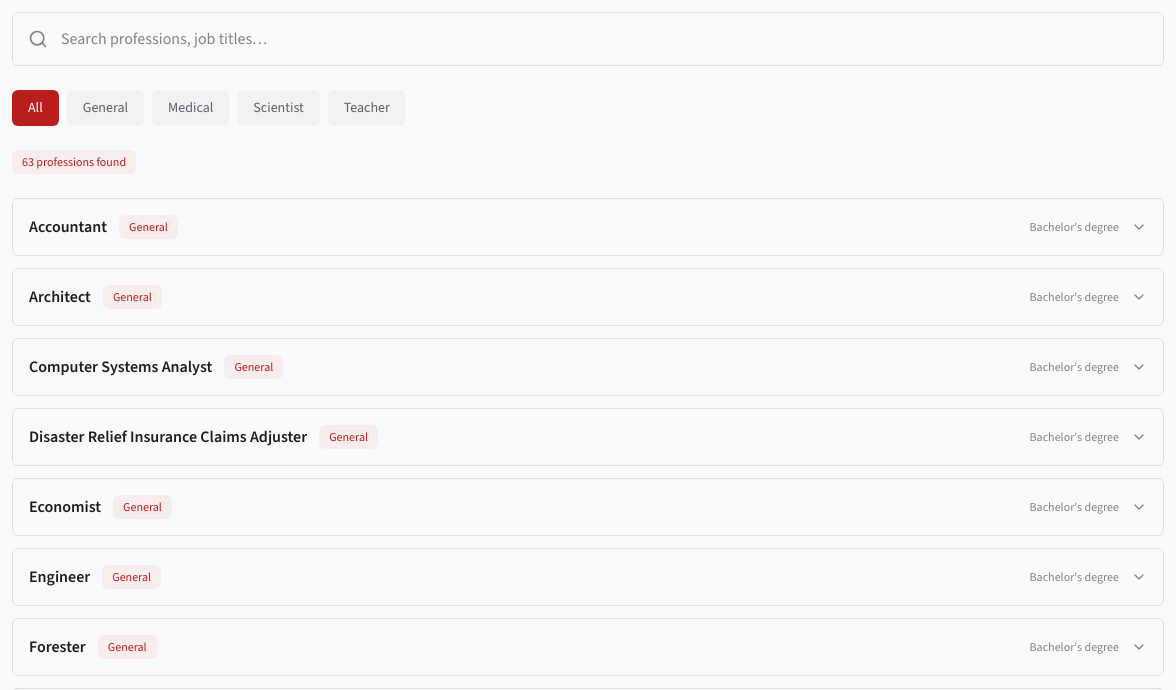
Test: ProfessionFinder › expands accordion on click
Click the button "Accountant General Bachelor's degree": {"x": 148, "y": 227} top-left (13, 199), bottom-right (1163, 255)
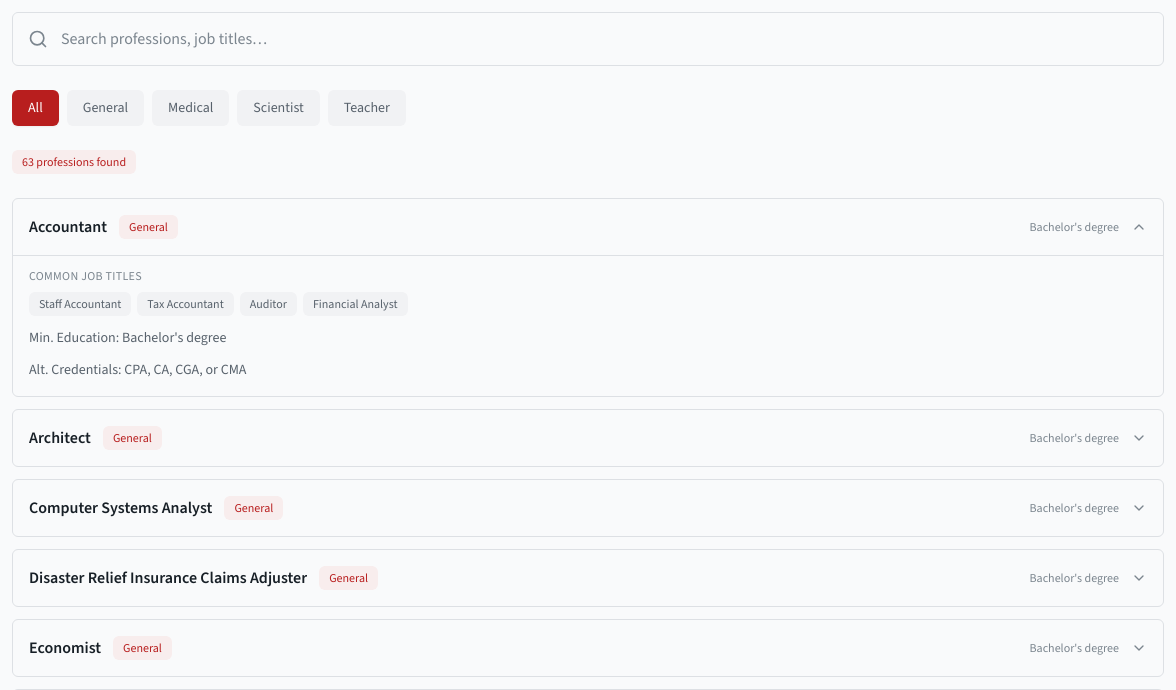
expect the button "Accountant General Bachelor's degree" is expanded: met, box top-left (13, 199), bottom-right (1163, 255)
